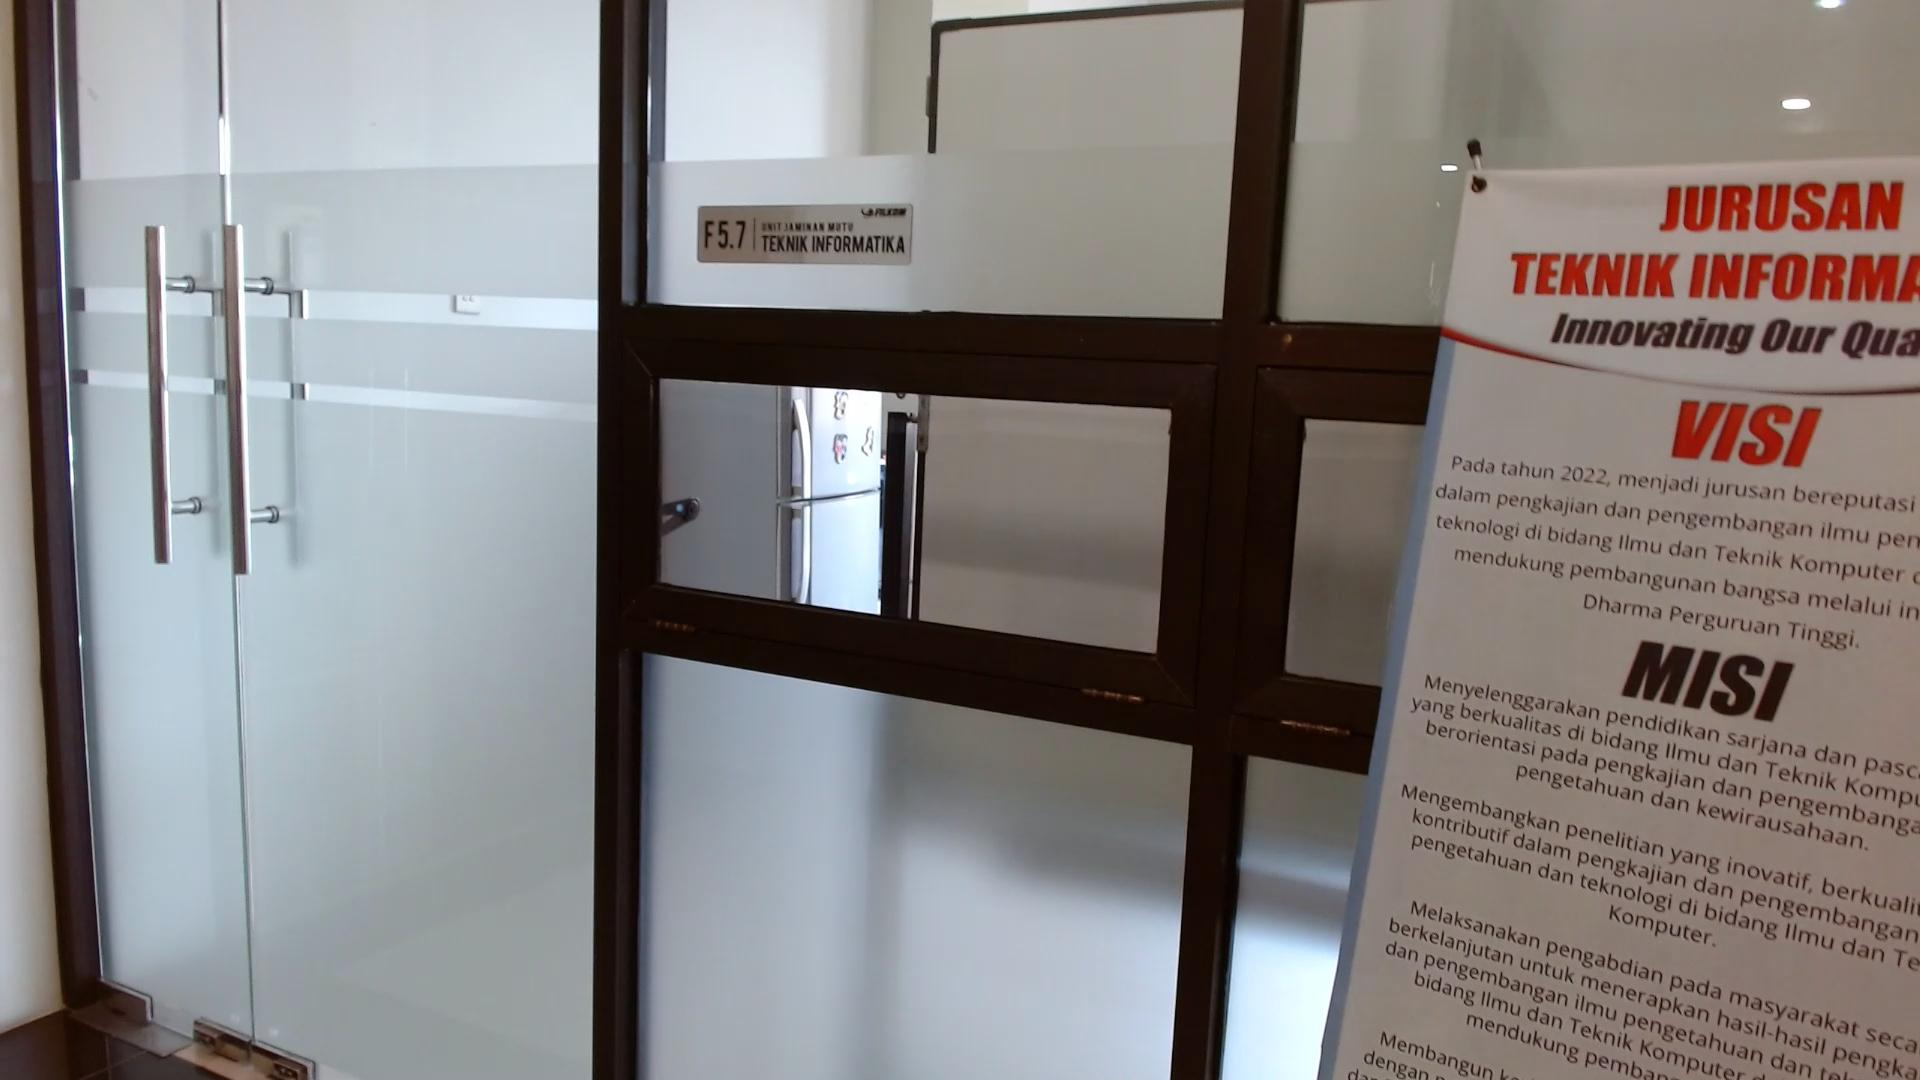plate: (698, 203, 911, 266)
